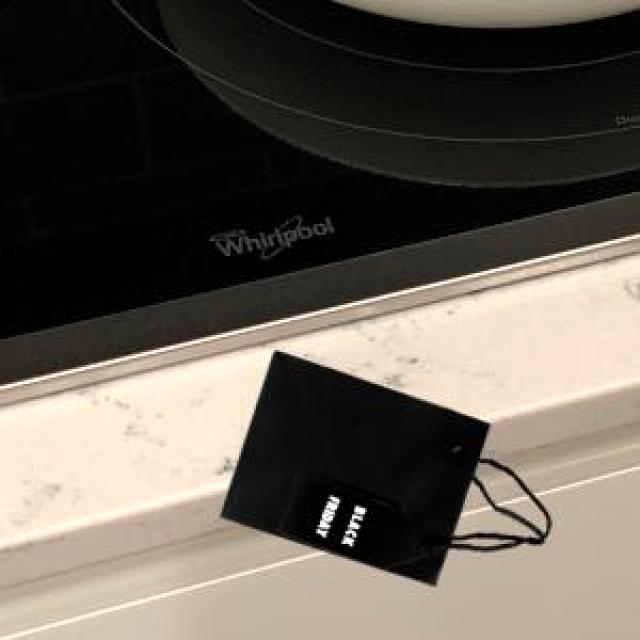Paper_Bag: (217, 346, 547, 584)
